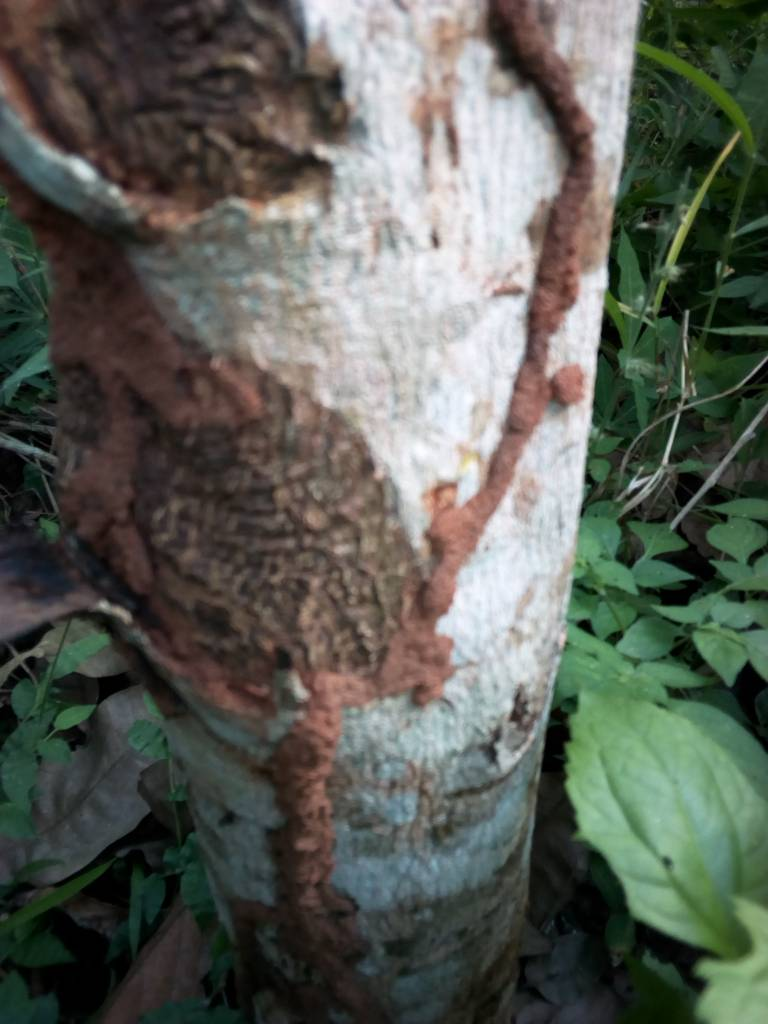Termites: (49, 266, 386, 696), (488, 5, 600, 442), (265, 702, 377, 988), (422, 497, 463, 680)
